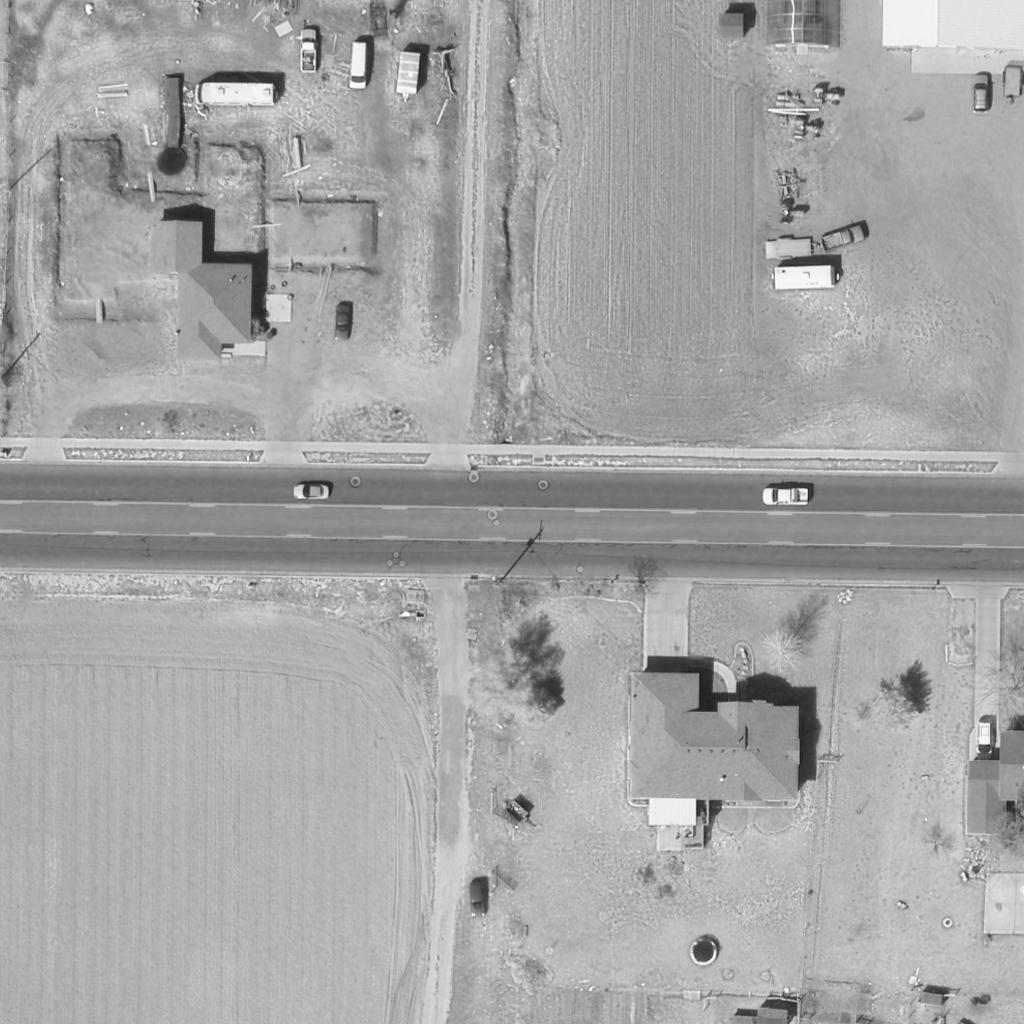vehicle: (195, 83, 277, 107), (771, 266, 841, 290), (820, 223, 866, 253), (396, 52, 422, 104), (349, 43, 369, 89), (762, 488, 810, 506), (300, 27, 318, 73), (972, 73, 990, 117), (976, 719, 994, 761), (794, 117, 824, 141), (468, 882, 486, 920), (810, 87, 844, 107), (334, 305, 352, 341), (293, 483, 331, 499)
